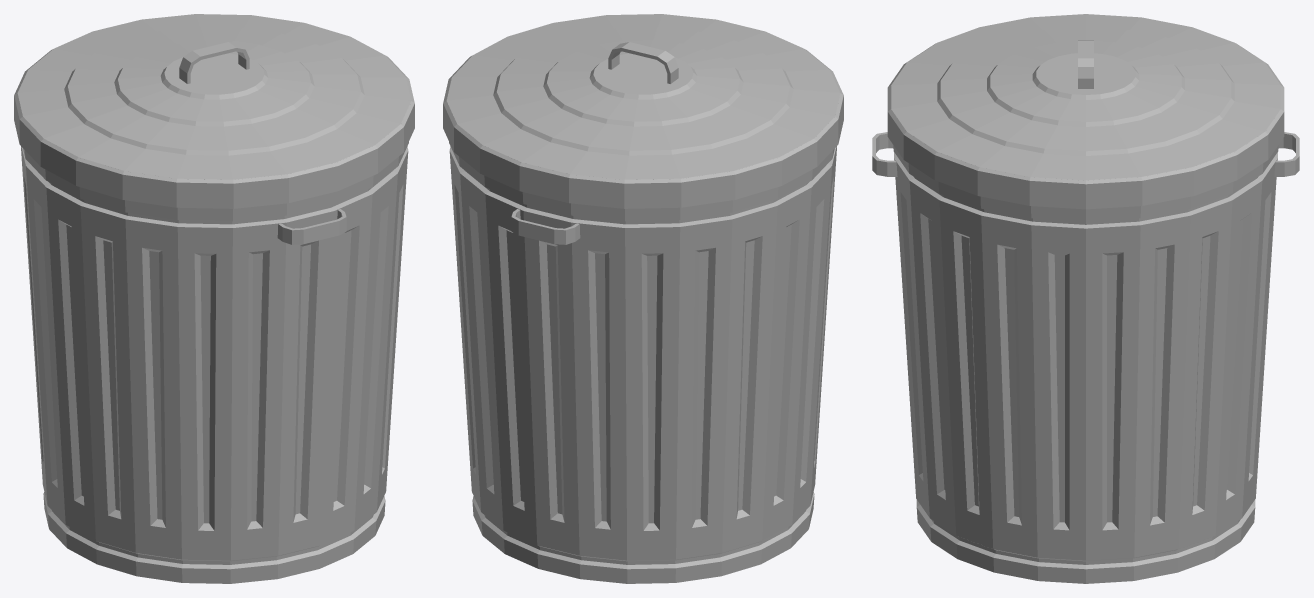
Rendered from 517 Garbage Bin.obj.
3 views of the same model, side by side, from view 1: azimuth 30°, elevation 25°; view 2: azimuth 150°, elevation 25°; view 3: azimuth 270°, elevation 25° (orthographic).
Visible parts, largest first — view 1: Garbage_Bin; view 2: Garbage_Bin; view 3: Garbage_Bin.
Boxes of the visible parts, x1=… form: Garbage_Bin: x1=14, y1=14, x2=414, y2=583; Garbage_Bin: x1=443, y1=14, x2=843, y2=583; Garbage_Bin: x1=872, y1=14, x2=1299, y2=583.
Size of the model in its own units: 49.12 by 62.56 by 52.41.
Materials: 1 (1 with a texture image).
